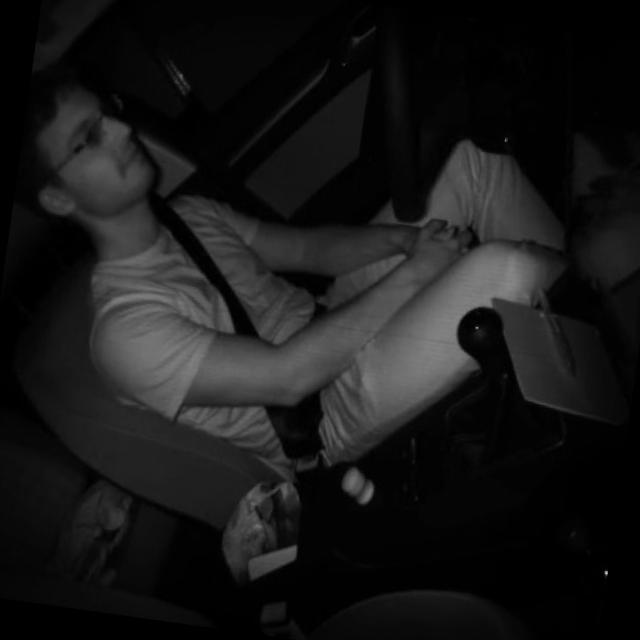pen: (522, 283, 590, 381)
